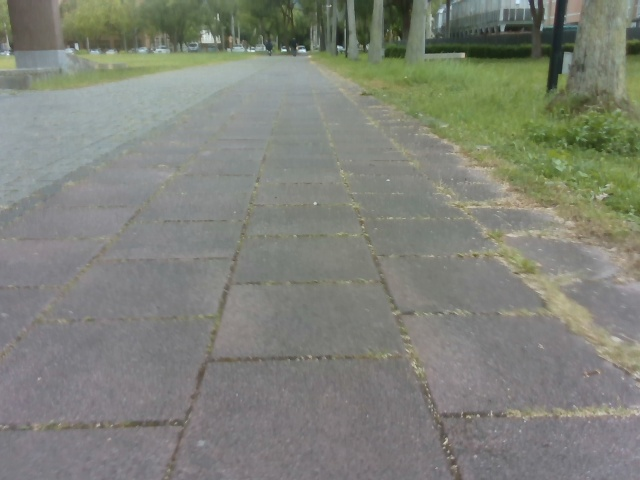grass: (306, 42, 639, 243), (58, 0, 436, 59), (527, 0, 639, 151), (0, 48, 263, 91)
road: (0, 56, 639, 479)
